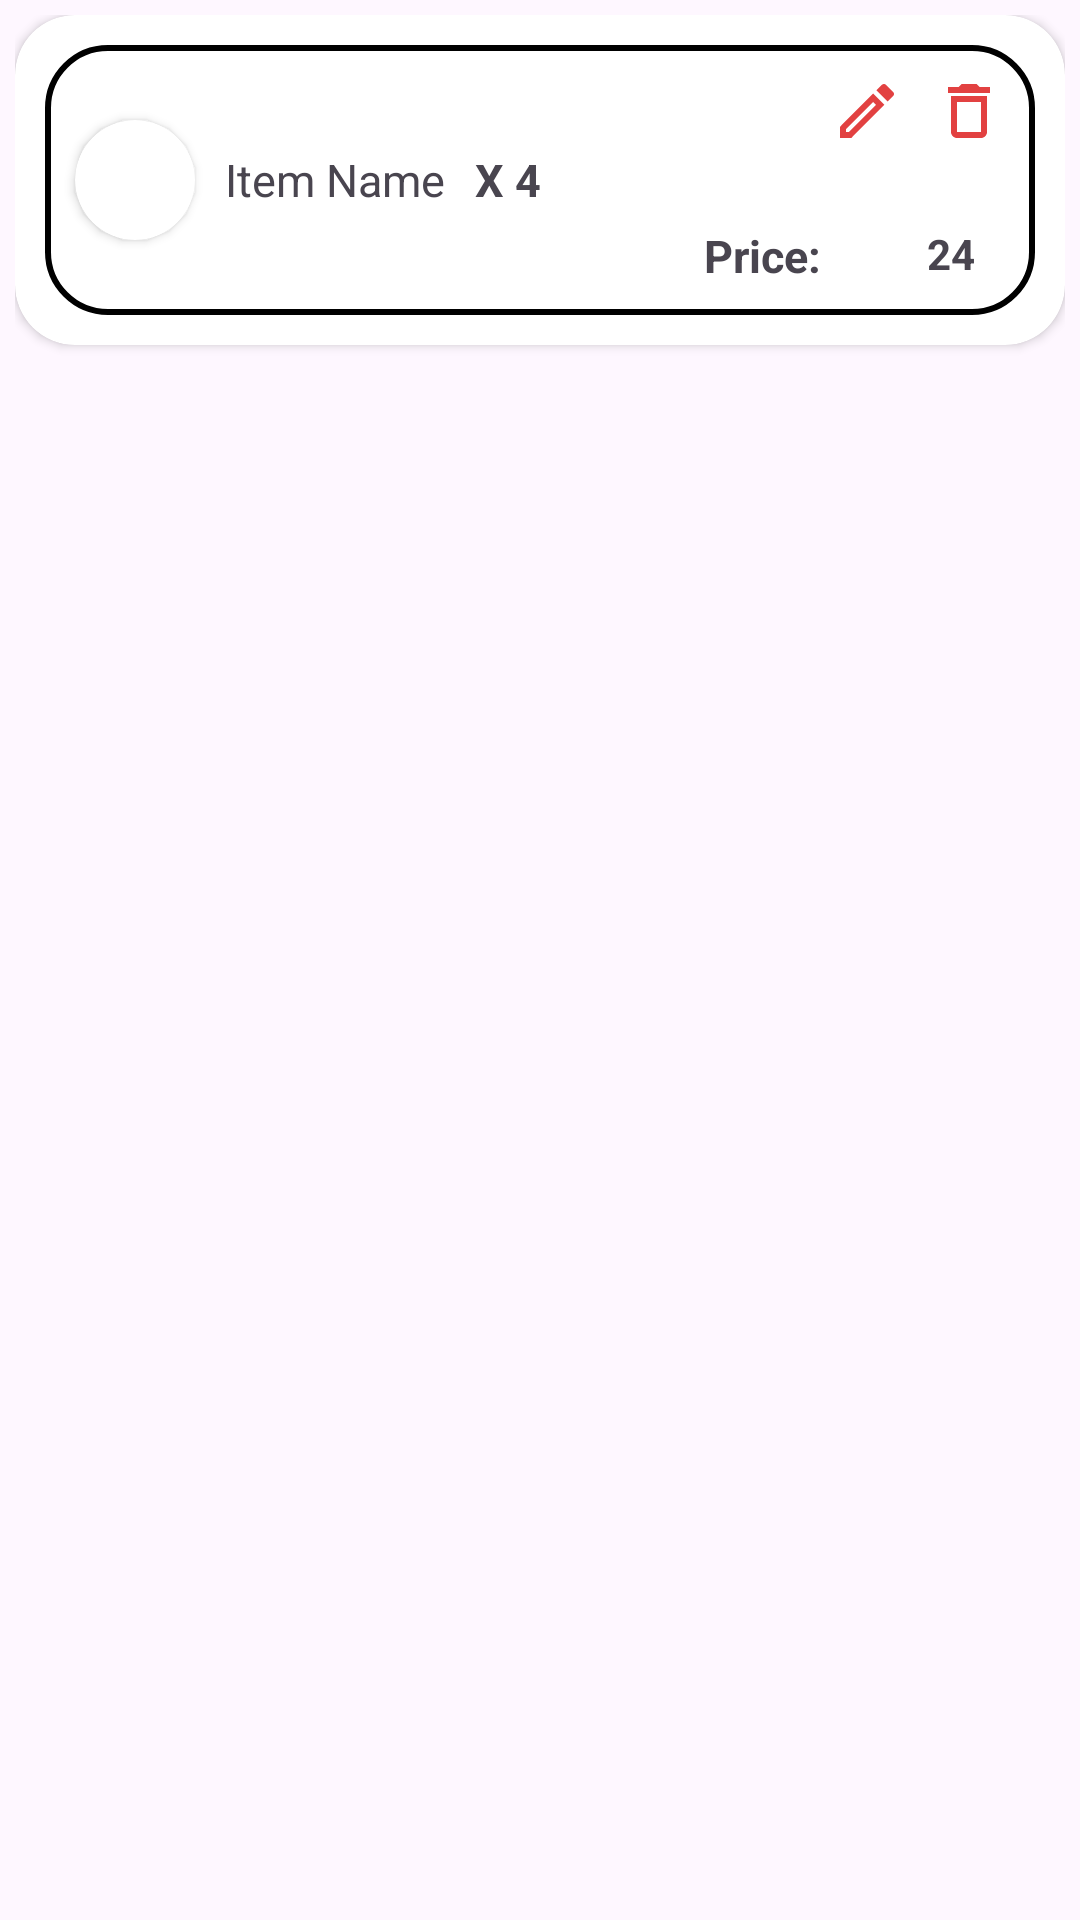

Named icons in this screenshot (1080*1920) and their centers, [x,y]:
delete: [969,111]
edit: [867,111]
